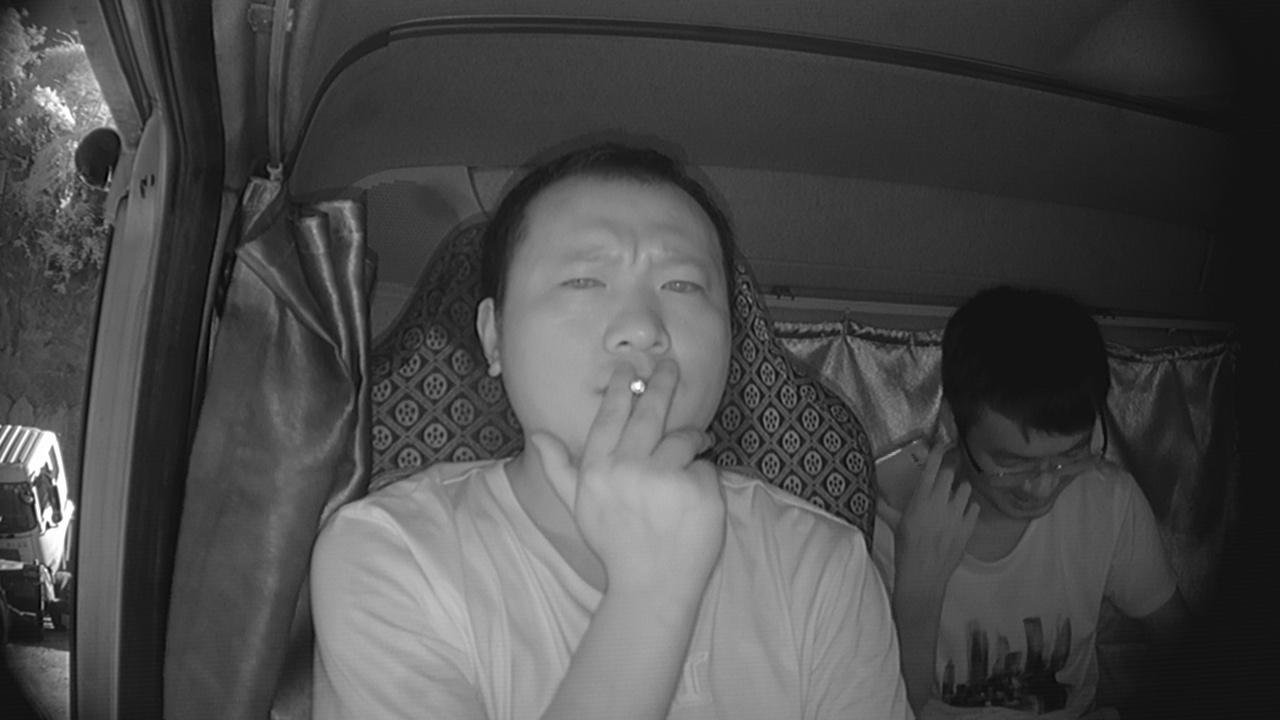hand: (576, 367, 722, 529)
